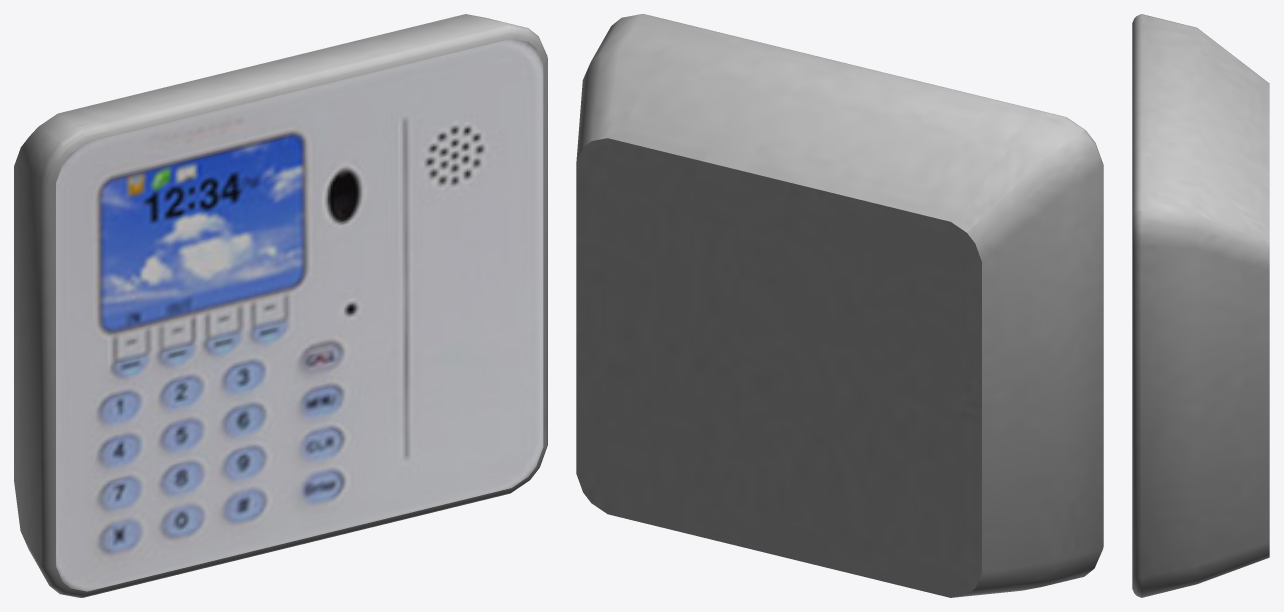
File: CardReader_BK500.gltf
3 renders of one model, left to right at view 1: azimuth 30°, elevation 25°; view 2: azimuth 150°, elevation 25°; view 3: azimuth 270°, elevation 25°, orthographic. The views are drawn at different scales.
Parts seen in each view (by area): view 1: BK500; view 2: BK500; view 3: BK500.
Boxes of the visible parts, <box> form: BK500: <box>14,14,547,597</box>; BK500: <box>576,14,1103,597</box>; BK500: <box>1132,14,1269,597</box>.
Size of the model in its own units: 1.49 by 1.32 by 0.4086.
Materials: 1 (1 with a texture image).
